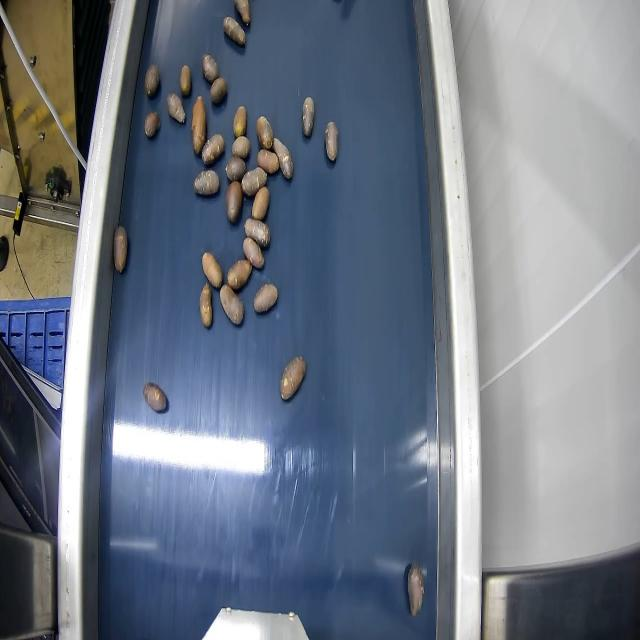Baby Potato: (281, 357, 305, 399), (220, 285, 243, 325), (408, 564, 424, 616), (192, 96, 206, 155), (273, 138, 293, 179), (227, 260, 251, 290), (242, 167, 266, 197), (226, 181, 243, 223), (202, 253, 222, 288), (245, 218, 269, 247), (254, 283, 277, 313), (202, 134, 224, 165), (194, 170, 220, 196), (243, 238, 264, 269), (144, 383, 166, 412), (224, 16, 245, 46), (113, 227, 127, 272), (252, 186, 269, 220), (257, 149, 279, 174), (167, 93, 185, 123), (257, 116, 273, 149), (200, 284, 212, 327), (302, 97, 314, 137), (325, 121, 337, 161), (226, 156, 245, 181), (145, 64, 159, 97), (202, 55, 218, 83), (232, 135, 250, 159), (144, 112, 160, 139), (233, 105, 246, 137), (210, 78, 226, 104), (234, 0, 250, 25), (180, 65, 191, 96)
